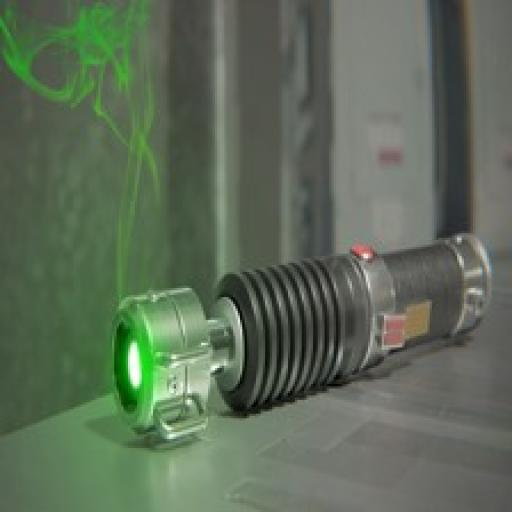lightsaber: (108, 231, 495, 442)
